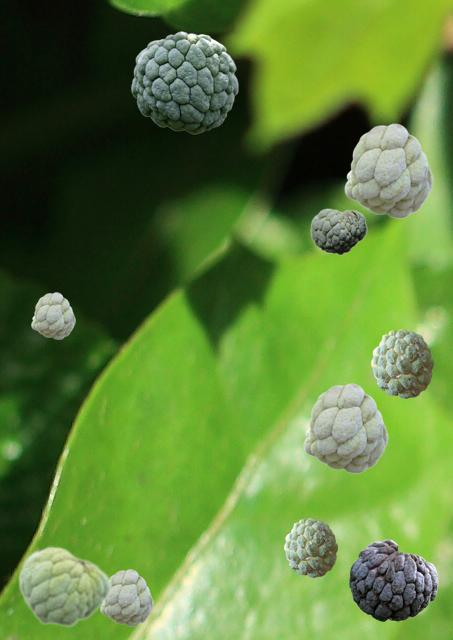atis: (131, 31, 237, 133), (344, 123, 432, 217), (17, 545, 110, 627), (303, 383, 387, 472), (349, 539, 437, 620), (371, 329, 432, 397), (284, 518, 336, 576), (100, 569, 152, 625), (310, 208, 366, 254), (31, 292, 74, 338)
